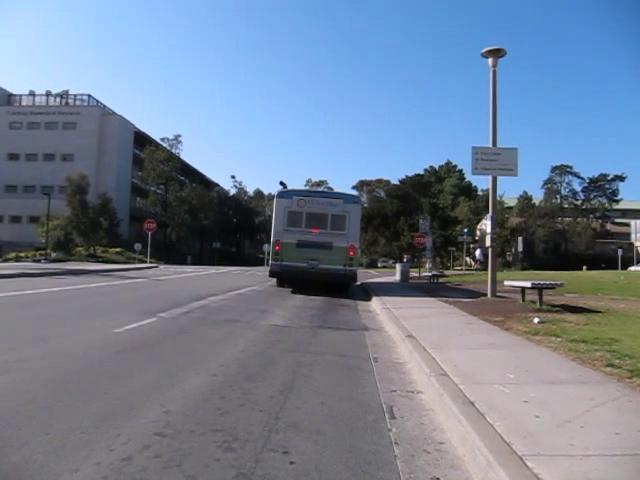stop: (142, 218, 157, 233)
